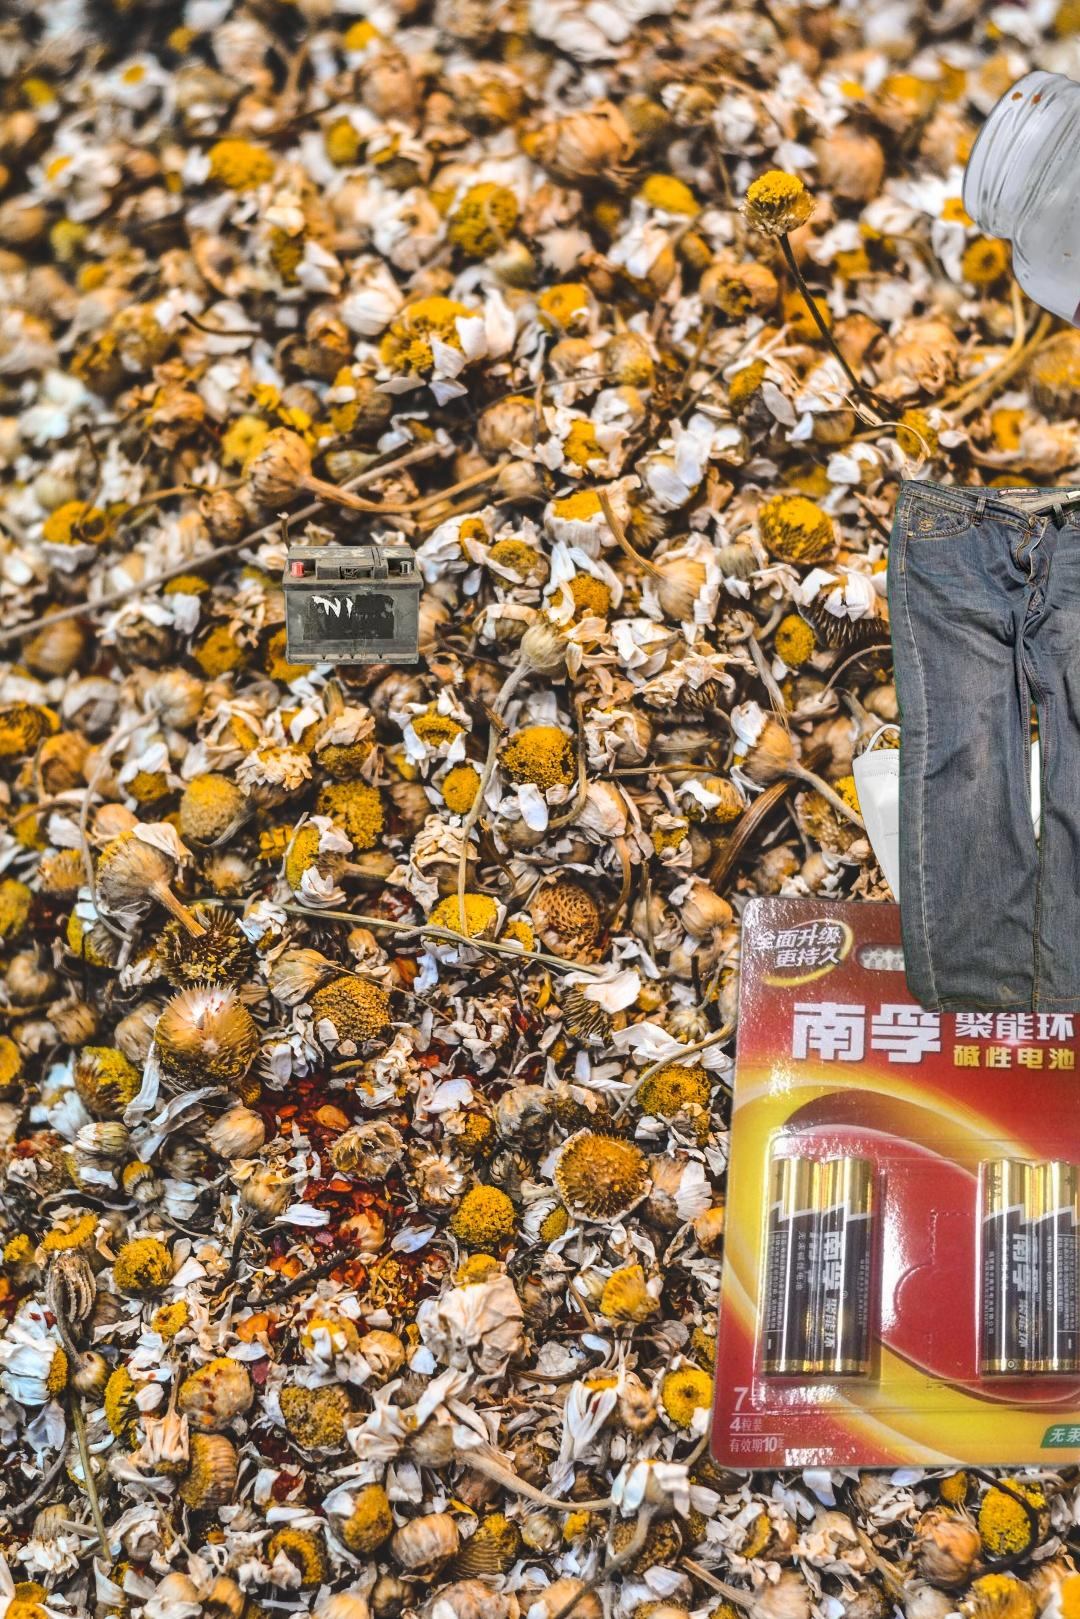battery: (700, 886, 1080, 1490), (278, 542, 427, 668)
clothes: (838, 480, 1080, 1013)
glass: (958, 68, 1080, 442)
trash: (849, 721, 1069, 909)
